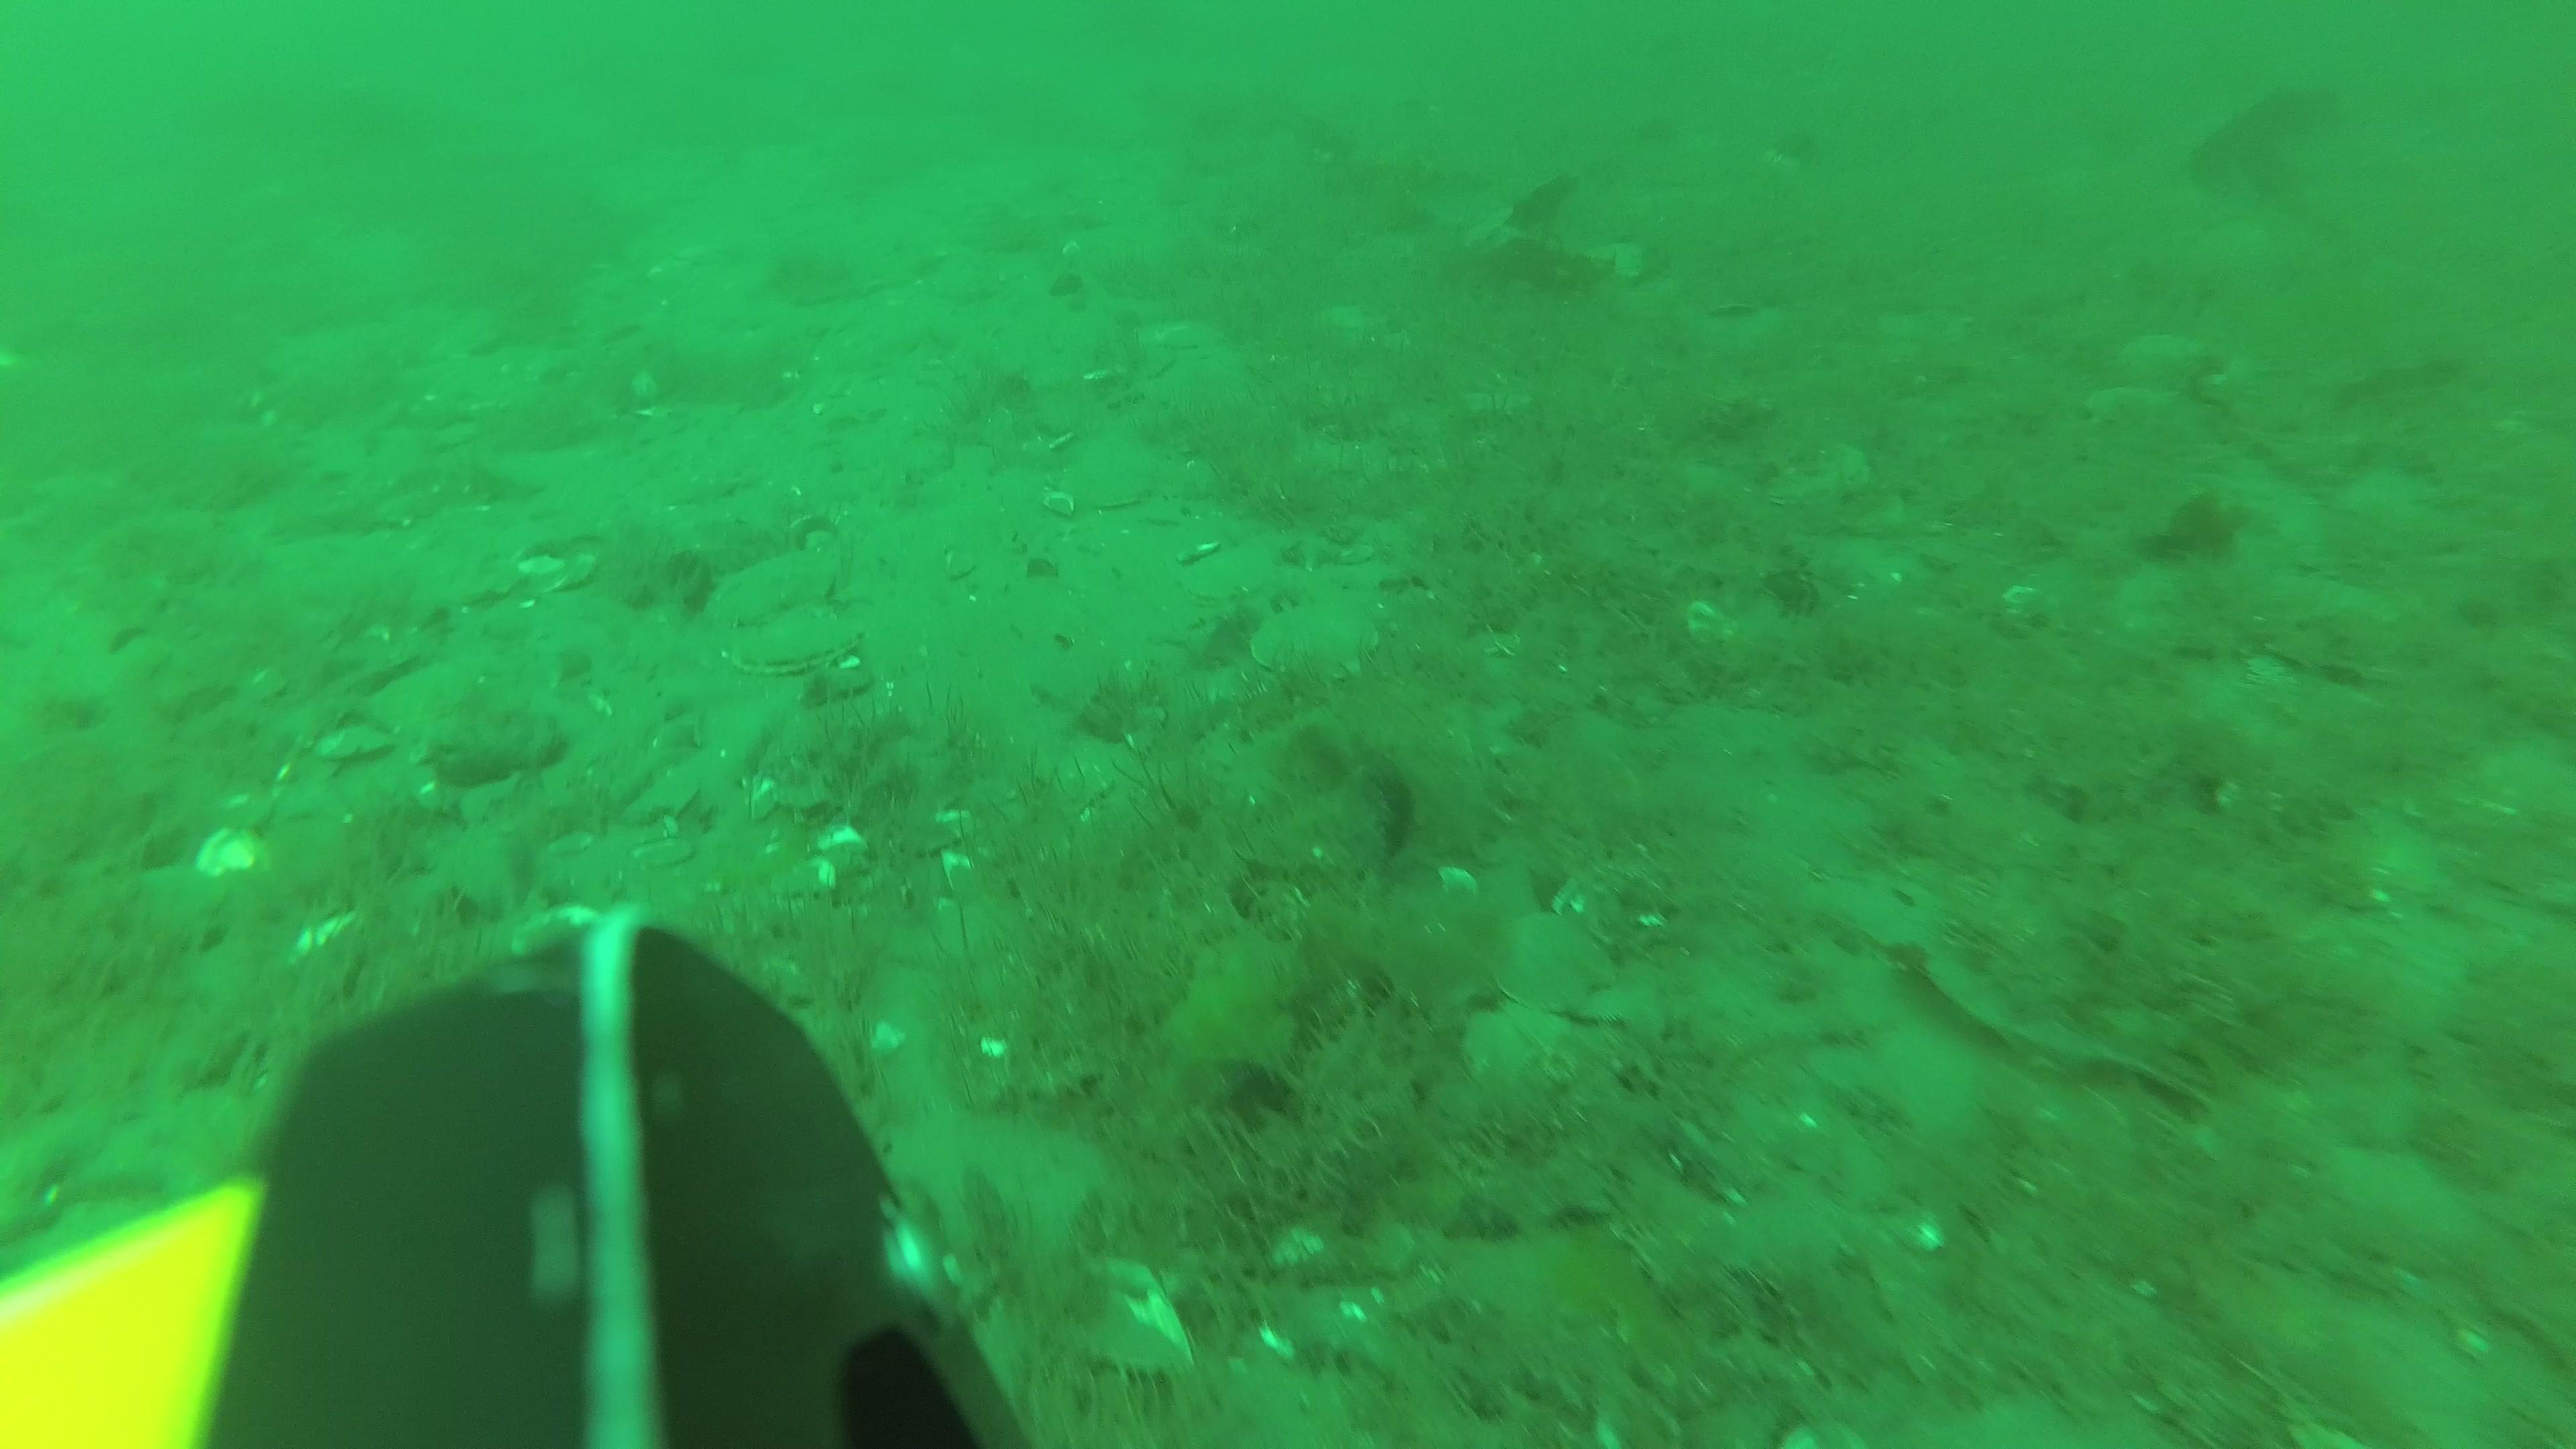scallop: (1458, 998, 1575, 1090), (1495, 913, 1605, 1007), (713, 547, 833, 628), (1249, 603, 1380, 676), (731, 610, 860, 672), (1175, 541, 1299, 605), (1762, 435, 1870, 506), (1065, 441, 1152, 508), (2125, 333, 2208, 375), (2086, 387, 2173, 425)
